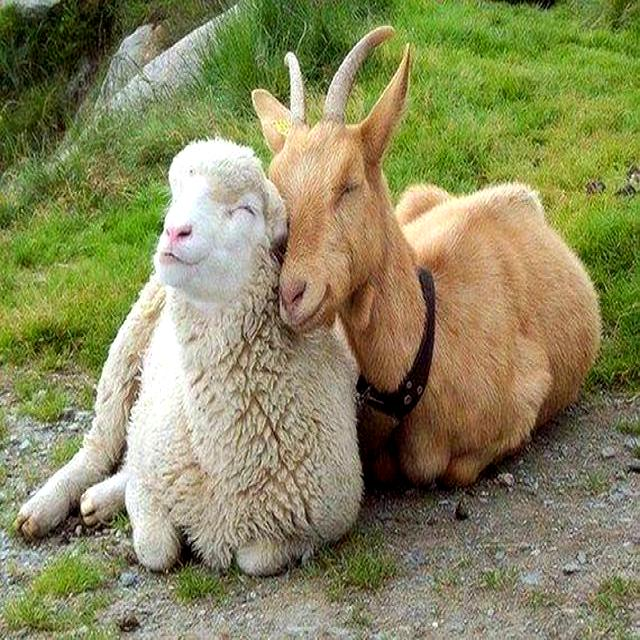sheep: (13, 138, 364, 575)
